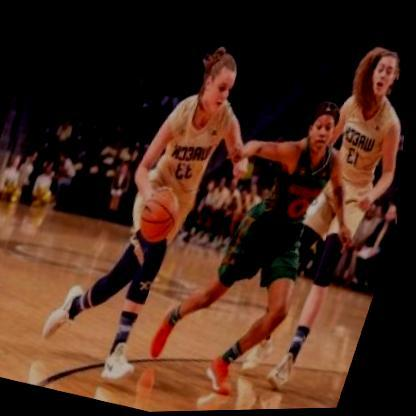basketball: (128, 177, 197, 254)
